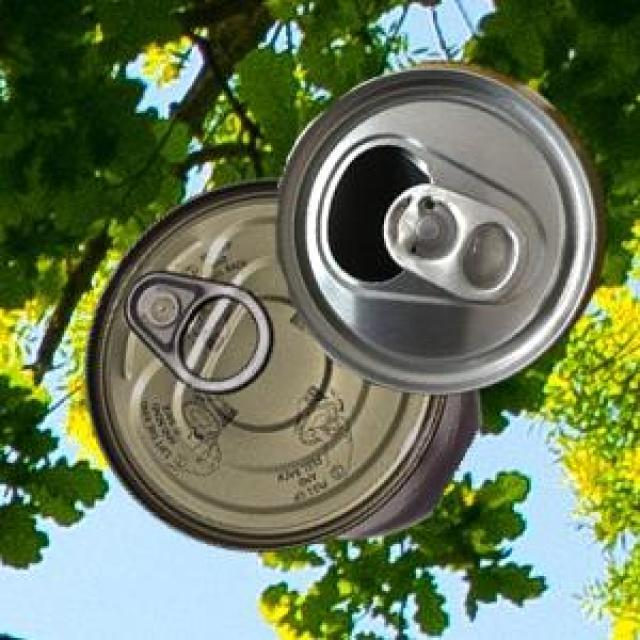Can: (82, 176, 479, 547), (272, 59, 605, 391)
